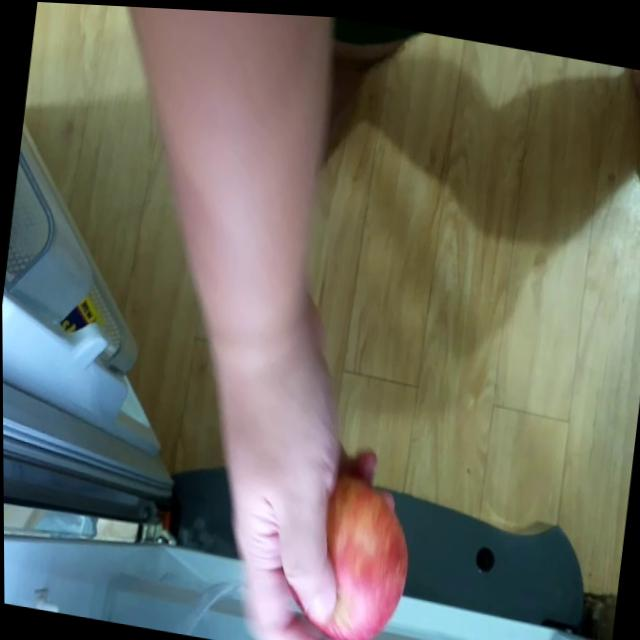apple: (294, 477, 417, 640)
